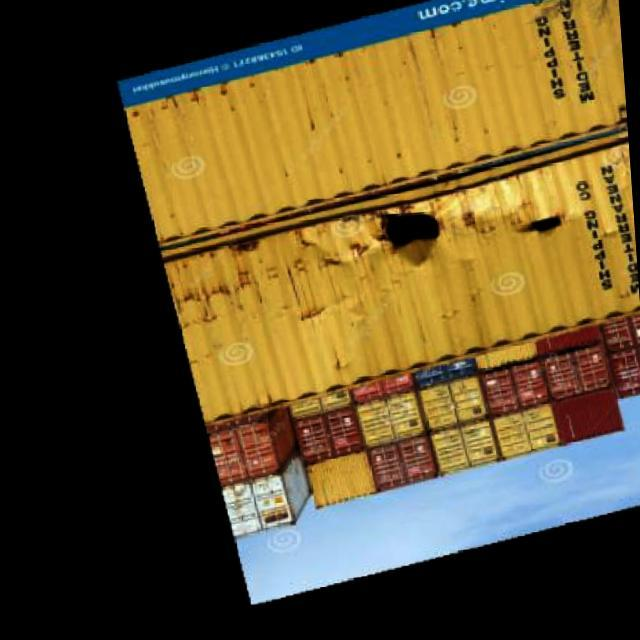hole: (488, 198, 591, 257), (366, 204, 453, 267)
rust: (156, 243, 357, 317)
